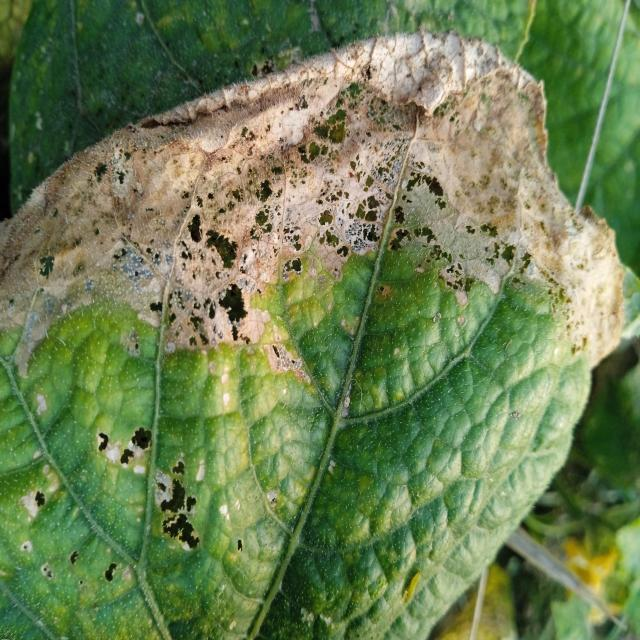cucumber_gummy: (0, 28, 624, 640)
